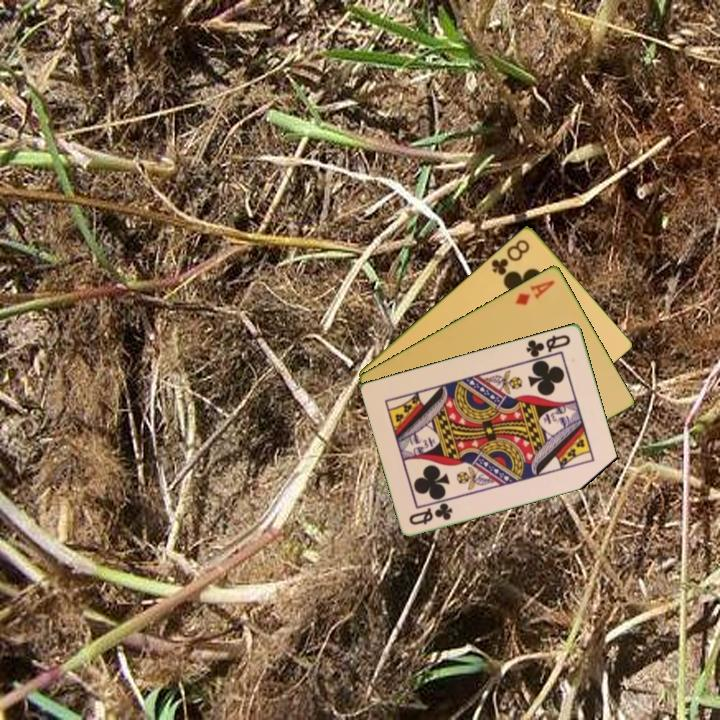8c: (488, 235, 533, 278)
Ad: (512, 276, 558, 308)
Qc: (522, 331, 574, 360), (405, 499, 456, 528)
